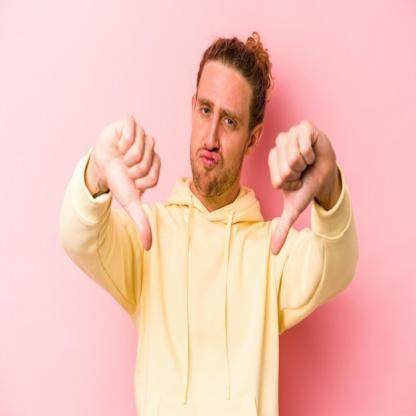thumb_down: (91, 110, 163, 254), (266, 112, 336, 256)
